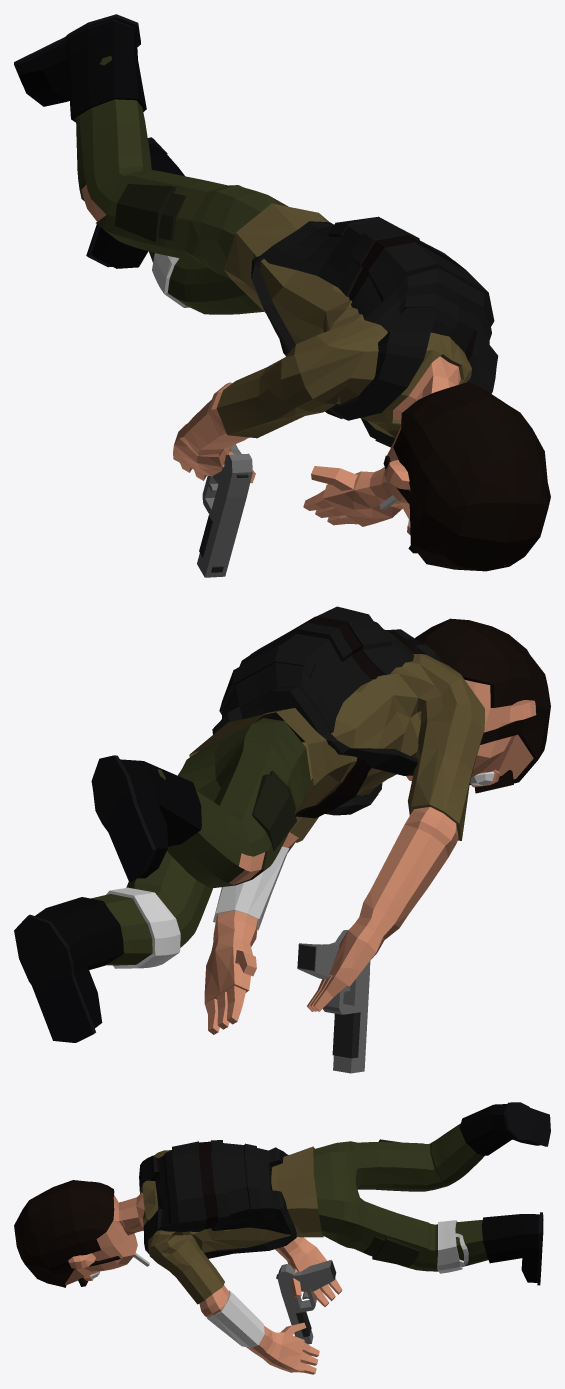
Rendered from frame_0068.obj.
The picture shows the model from 3 angles, top to bottom: view 1: azimuth 30°, elevation 25°; view 2: azimuth 150°, elevation 25°; view 3: azimuth 270°, elevation 25°; orthographic projection. The views are drawn at different scales.
Parts seen in each view (by area): view 1: Body, Gun; view 2: Body, Gun; view 3: Body, Gun.
Boxes of the visible parts, bbox=[...] form: Body: bbox=[14, 14, 550, 571]; Gun: bbox=[197, 444, 252, 577]; Body: bbox=[14, 606, 550, 1042]; Gun: bbox=[297, 930, 370, 1073]; Body: bbox=[14, 1102, 550, 1374]; Gun: bbox=[276, 1260, 336, 1344].
Bounding box in the file's own units: 1.32 × 2.24 × 4.15.
